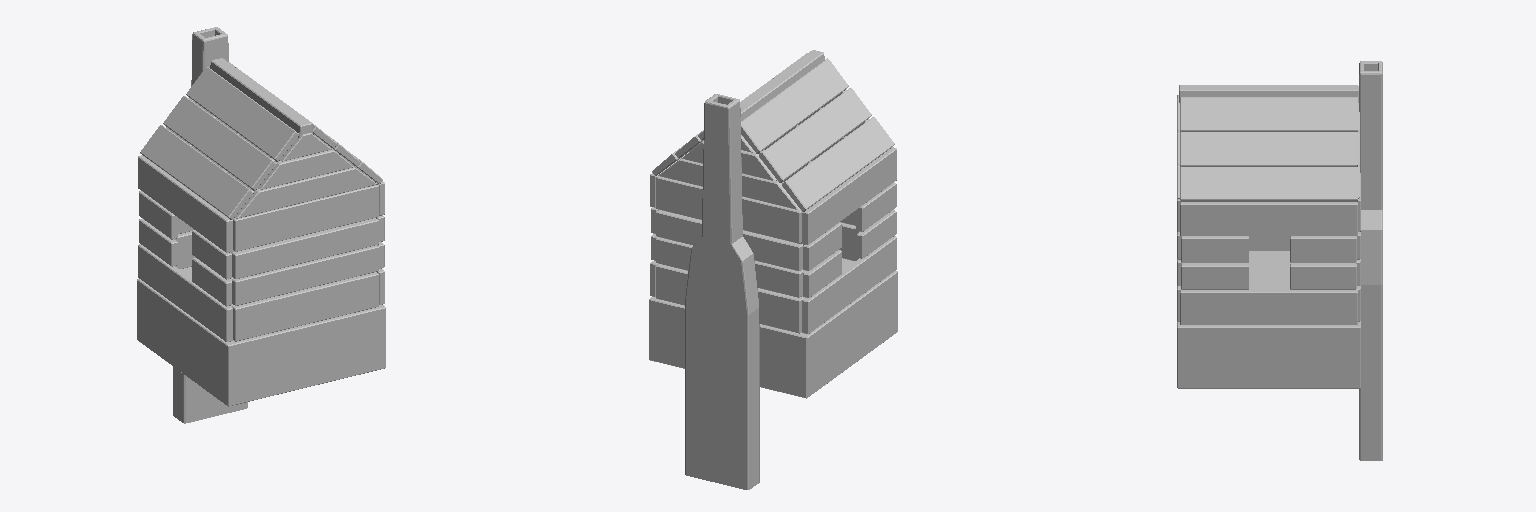
Rendered from Cabin.obj.
The picture shows the model from 3 angles: view 1: azimuth 30°, elevation 25°; view 2: azimuth 150°, elevation 25°; view 3: azimuth 270°, elevation 25°; orthographic projection.
Parts seen in each view (by area): view 1: pCube27, pCube13 group1, group1 pCube16, group4 pCube18, pCube19 group4, group4 pCube17, group1 pCube15, group1 pCube14, pCube7, pCube12, pCube28, group1 pCube21 (+8 smaller); view 2: pCube28, pCube27, group4 pCube18, group4 pCube17, pCube19 group4, group2 pCube16, pCube7, pCube12, group2 pCube15, pCube13 group2, group2 pCube14, group1 pCube24 (+7 smaller); view 3: pCube27, pCube28, pCube1, pCube19 group3, group3 pCube18, group3 pCube17, pCube6, pCube20, pCube4, pCube2, pCube5, pCube3 (+1 smaller).
Boxes of the visible parts, x1,y1,x2,y2 form: pCube27: [137, 267, 385, 406]; pCube13 group1: [232, 272, 378, 341]; group1 pCube16: [233, 185, 378, 251]; group4 pCube18: [163, 96, 276, 190]; pCube19 group4: [186, 67, 298, 161]; group4 pCube17: [140, 125, 253, 219]; group1 pCube15: [232, 218, 378, 278]; group1 pCube14: [232, 245, 378, 305]; pCube7: [138, 244, 232, 341]; pCube12: [138, 155, 232, 252]; pCube28: [173, 27, 247, 423]; group1 pCube21: [235, 167, 376, 218]; pCube28: [685, 94, 759, 489]; pCube27: [649, 258, 897, 398]; group4 pCube18: [759, 88, 871, 182]; group4 pCube17: [782, 117, 894, 211]; pCube19 group4: [741, 58, 848, 153]; group2 pCube16: [656, 176, 801, 243]; pCube7: [802, 236, 896, 333]; pCube12: [802, 147, 896, 244]; group2 pCube15: [656, 210, 802, 270]; pCube13 group2: [656, 264, 802, 333]; group2 pCube14: [656, 237, 802, 297]; group1 pCube24: [658, 158, 799, 209]; pCube27: [1177, 251, 1360, 388]; pCube28: [1359, 61, 1382, 460]; pCube1: [1180, 290, 1357, 324]; pCube19 group3: [1180, 97, 1357, 131]; group3 pCube18: [1180, 132, 1357, 166]; group3 pCube17: [1180, 167, 1357, 201]; pCube6: [1180, 202, 1357, 235]; pCube20: [1179, 85, 1358, 102]; pCube4: [1181, 236, 1248, 262]; pCube2: [1181, 263, 1248, 289]; pCube5: [1290, 236, 1356, 262]; pCube3: [1290, 263, 1356, 289].
Bounding box in the file's own units: 2.09 × 4.75 × 2.34.